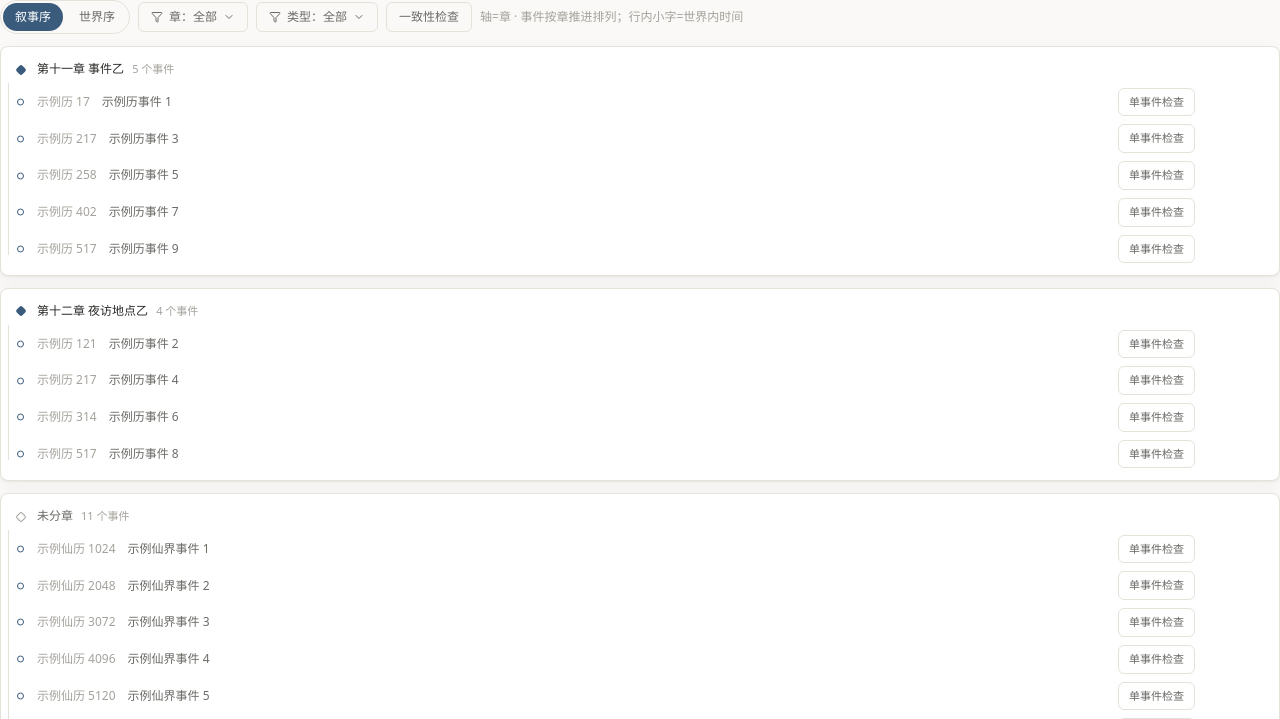
Test: #1564 世界序刻度带 v2（组件级） › C3 分页按刻度：每页 8 刻度（默认档）；翻页后刻度集合变化；首末页禁用态
The image size is (1280, 719).
Click the button with test id "tl-view-world" at [97, 17], box [67,3,127,31]
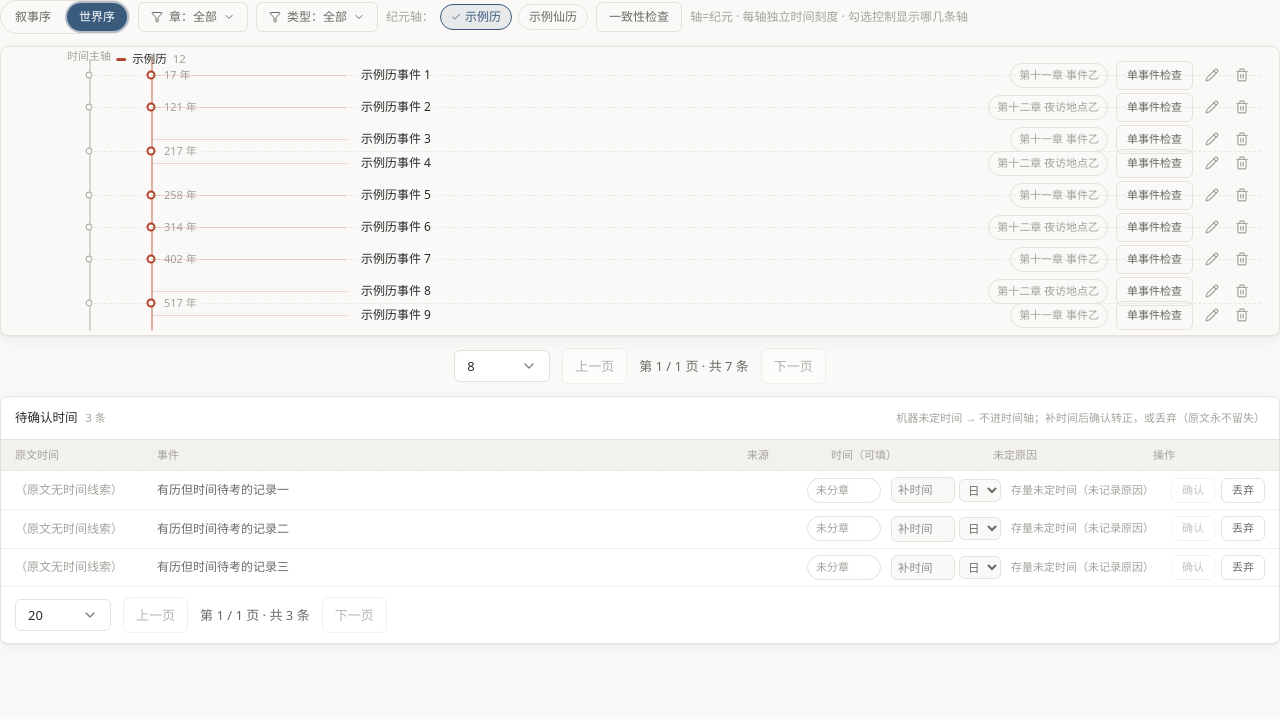
Click the button "示例仙历" at [553, 17], box [518,4,588,30]
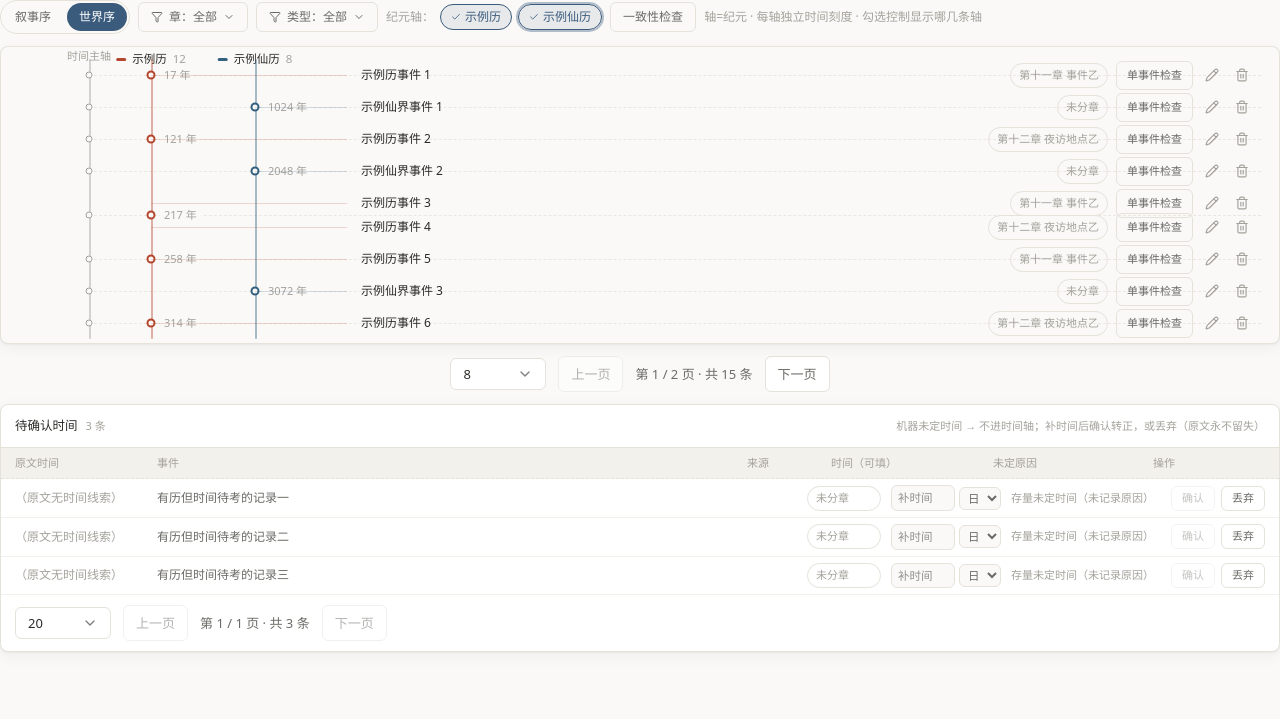
Expected: the button with test id "tl-band-page-prev" is disabled, [558,356,623,392]
Expected: the text with test id "tl-band-page-info" reads "第 1 / 2 页 · 共 15 条", [635,365,752,383]
Expected: the text "517 年" is gone
Click the button with test id "tl-band-page-next" at [797, 374], box [764,356,830,392]
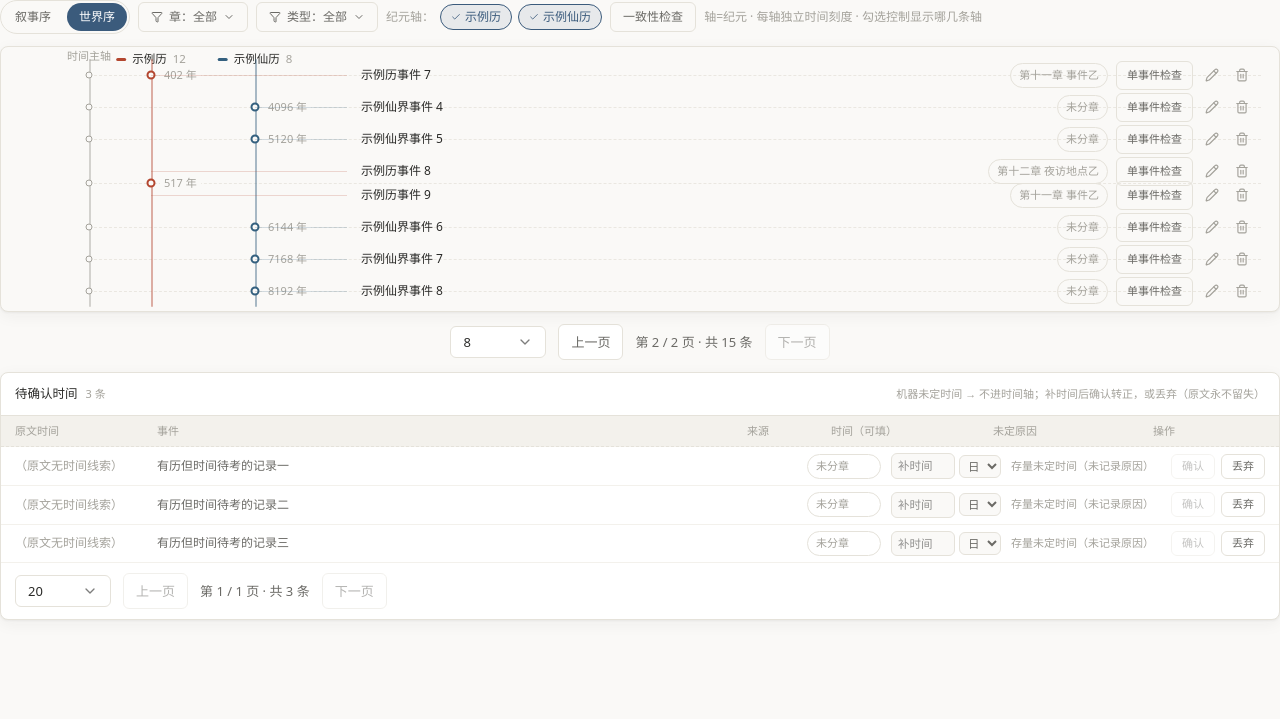
Expected: the text with test id "tl-band-page-info" reads "第 2 / 2 页 · 共 15 条", [635,333,752,351]
Expected: the button with test id "tl-band-page-next" is disabled, [764,324,830,360]
Expected: the text "517 年" is shown, [160,174,201,193]
